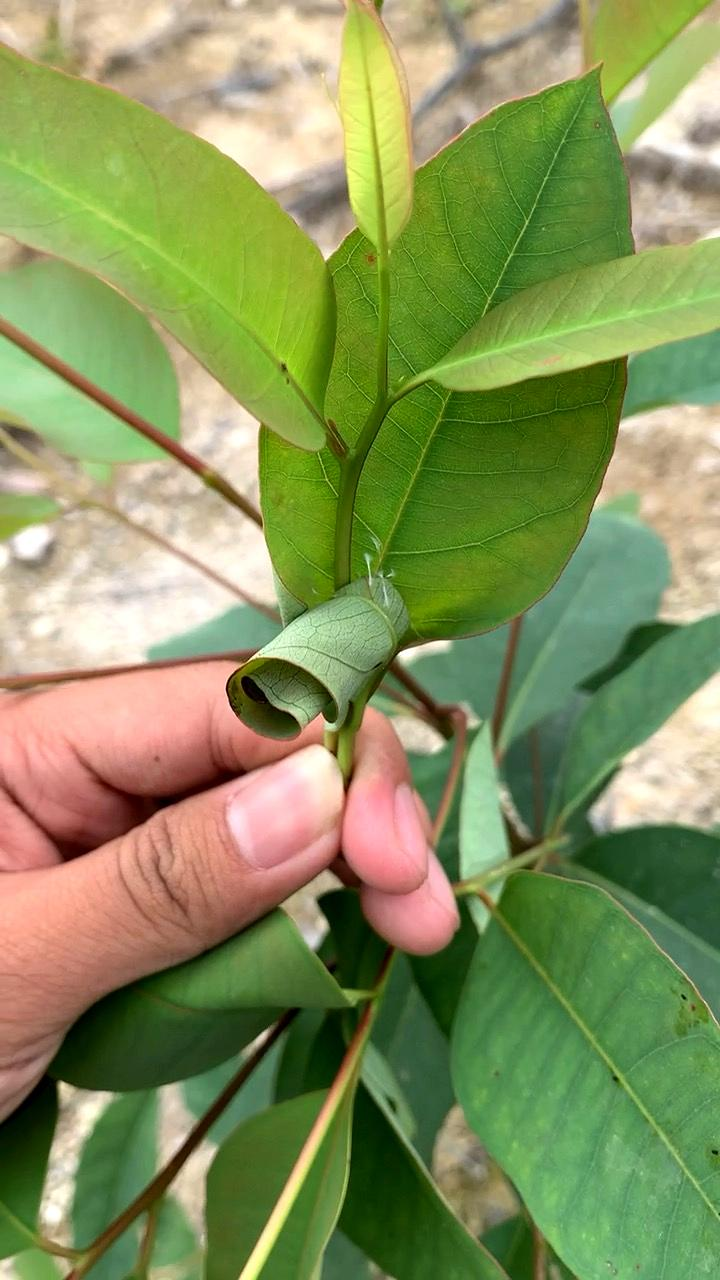Leaf Roller - Leaf: (209, 558, 501, 760)
